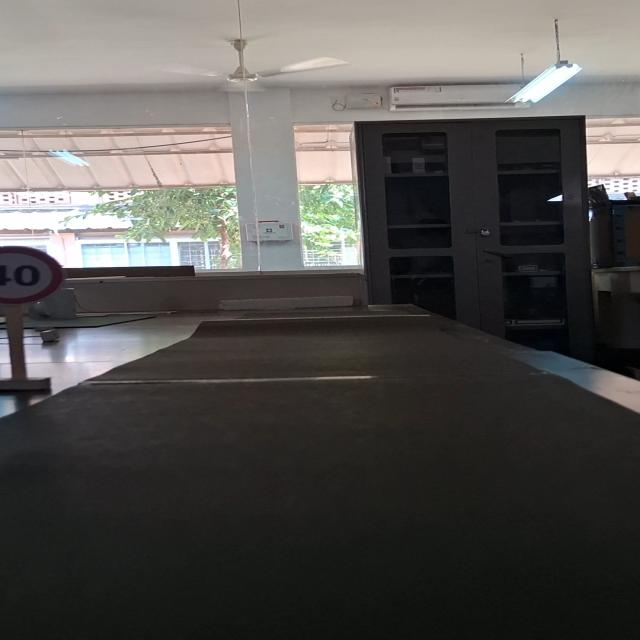Speed40: (0, 241, 65, 305)
